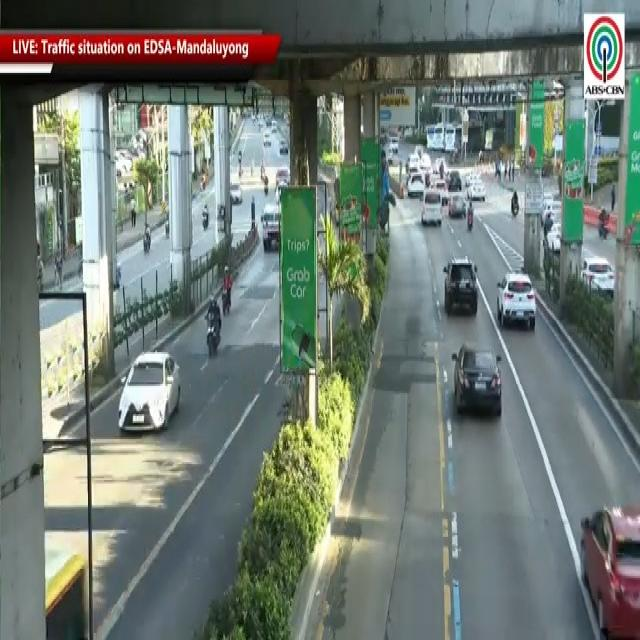car: (569, 487, 640, 640), (114, 350, 181, 443), (450, 338, 507, 421), (494, 268, 535, 329), (441, 258, 479, 314), (419, 186, 445, 230)
motorbike: (205, 296, 223, 354), (222, 262, 234, 313), (466, 200, 477, 238), (139, 222, 152, 250), (508, 187, 520, 215)
truck: (258, 206, 281, 251)
